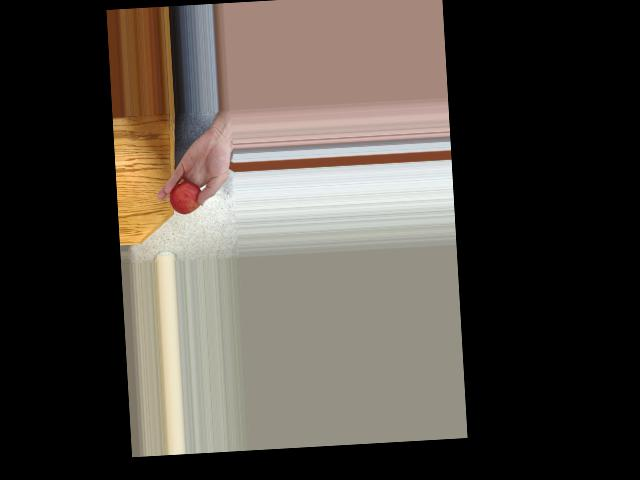apple: (168, 178, 203, 214)
